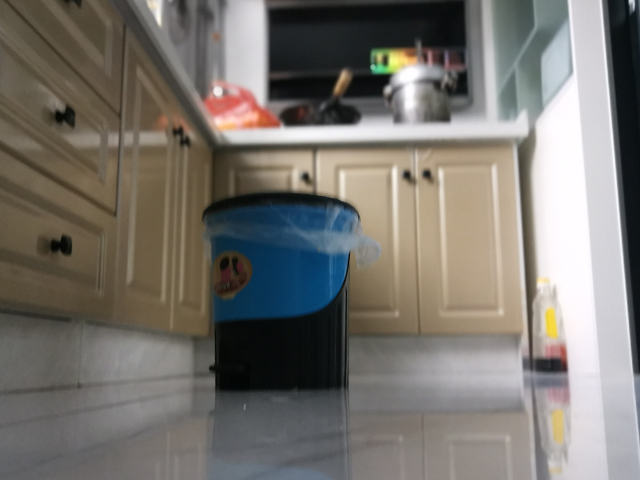cabinet: (360, 130, 522, 339)
trashcan: (199, 191, 362, 394)
